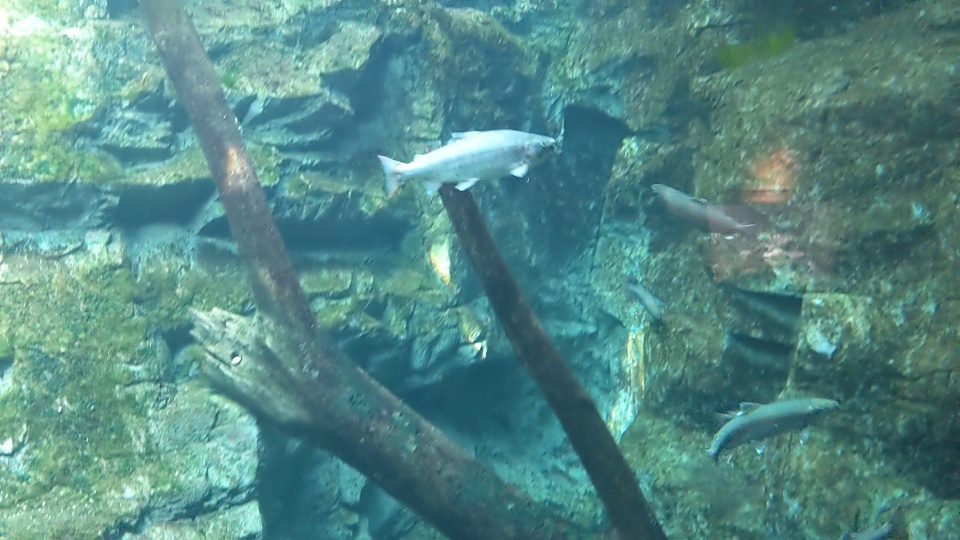Fish: (381, 126, 557, 198), (712, 398, 833, 462), (651, 180, 761, 246), (608, 272, 666, 327), (831, 507, 903, 540)
